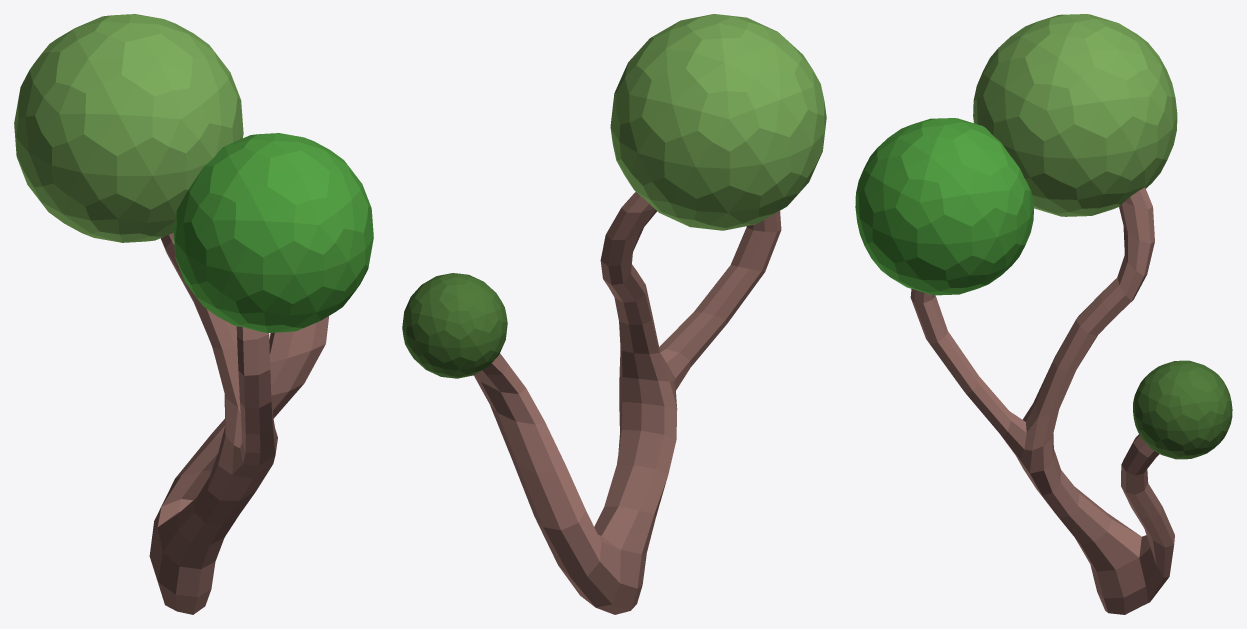
File: tree8.fbx
3 views of the same model, side by side, from view 1: azimuth 30°, elevation 25°; view 2: azimuth 150°, elevation 25°; view 3: azimuth 270°, elevation 25° (orthographic). The views are drawn at different scales.
Parts seen in each view (by area): view 1: Tree8; view 2: Tree8; view 3: Tree8.
Boxes of the visible parts, <box> form: Tree8: <box>14,14,373,614</box>; Tree8: <box>402,14,826,614</box>; Tree8: <box>855,14,1232,614</box>.
Bounding box in the file's own units: 358 × 584 × 358.
